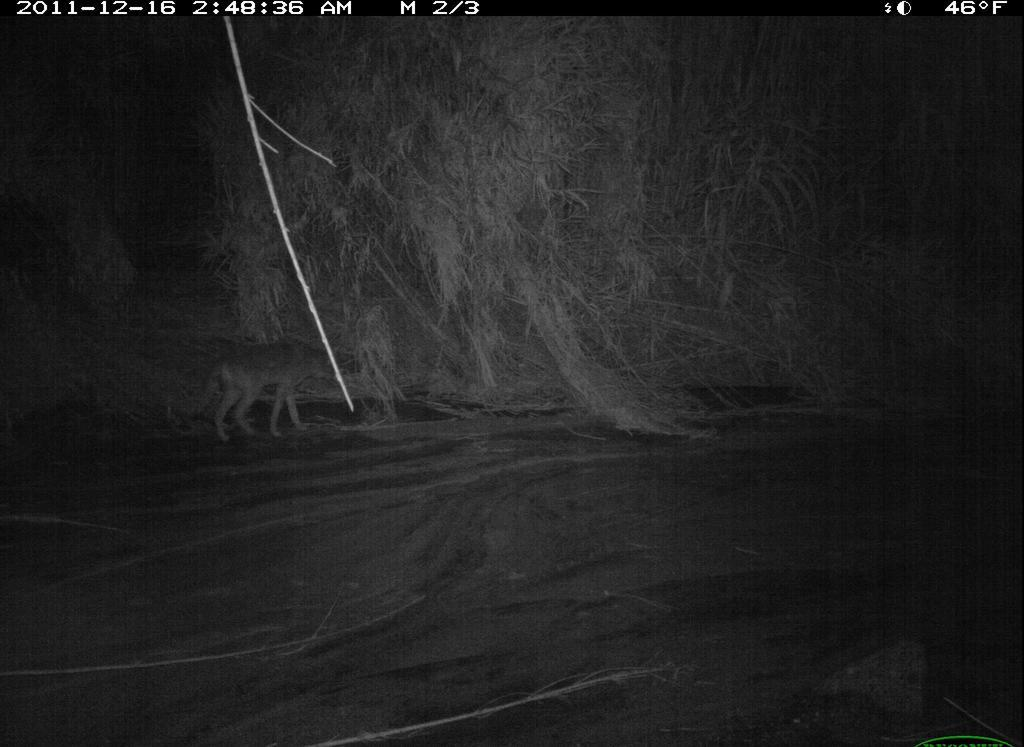coyote: (189, 327, 365, 450)
